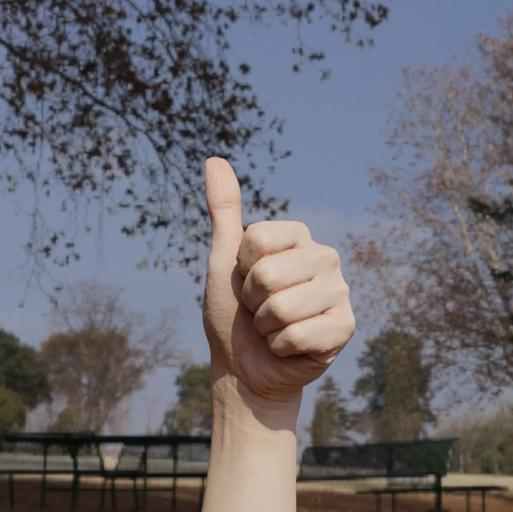thumbs-up: (194, 154, 358, 399)
